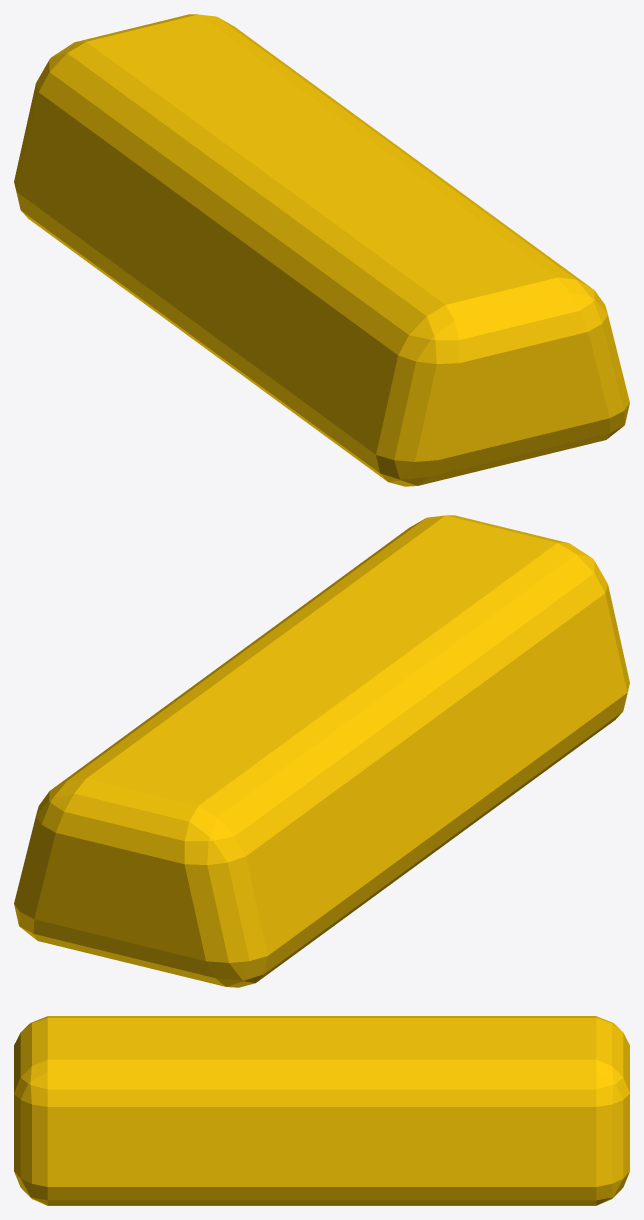
The model's file is Obj_Gold.fbx.
3 renders of one model, top to bottom at view 1: azimuth 30°, elevation 25°; view 2: azimuth 150°, elevation 25°; view 3: azimuth 270°, elevation 25°, orthographic. The views are drawn at different scales.
Parts seen in each view (by area): view 1: Cube; view 2: Cube; view 3: Cube.
Part boxes in pixels (x1,y1,x2,y2): Cube: (14,14,629,486); Cube: (14,515,629,987); Cube: (14,1016,629,1205).
Bounding box in the file's own units: 1.86 × 1.22 × 5.19.
